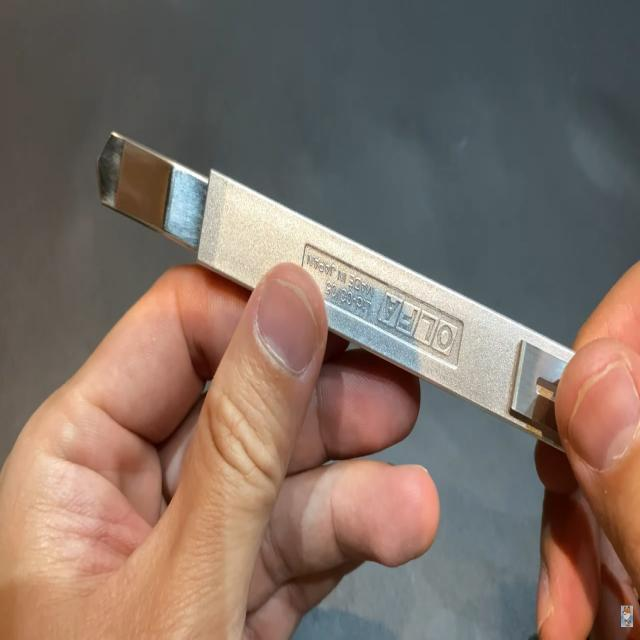cutter: (52, 111, 640, 569)
